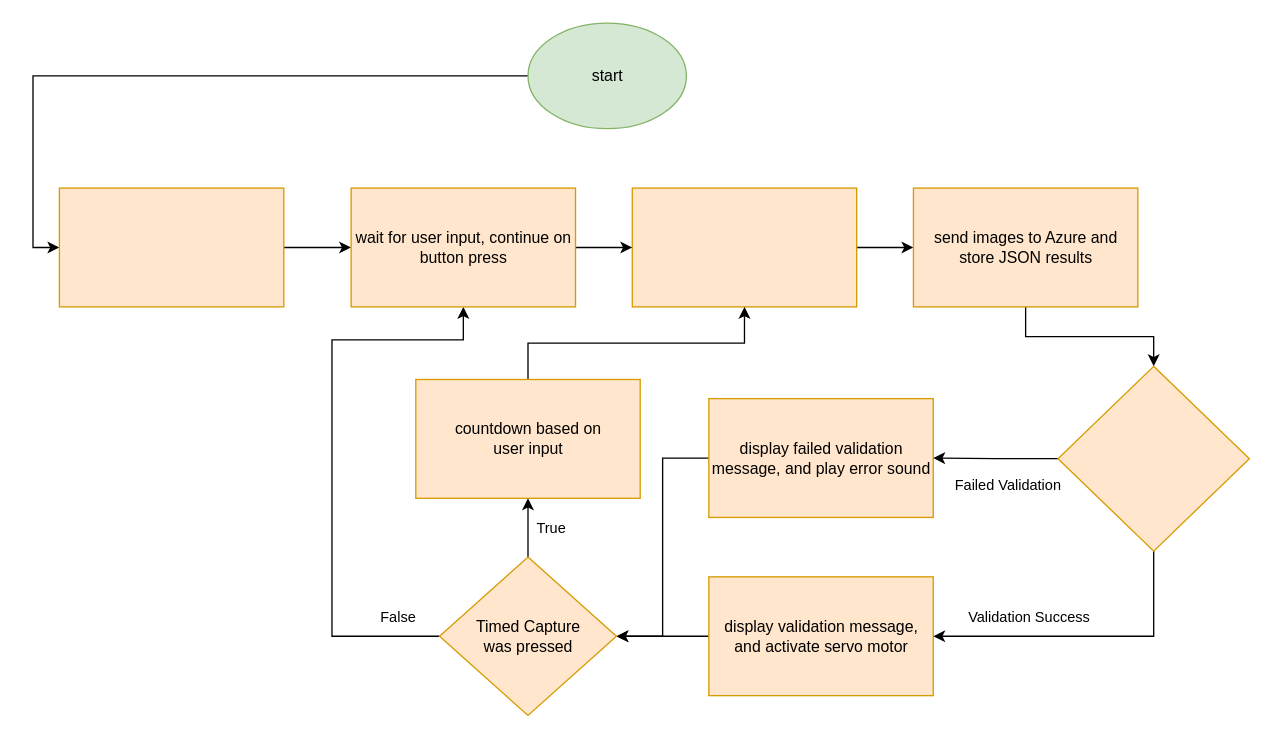
The diagram is 1272 pixels wide and 739 high, and some of its shapes have lost their labels. The shapes that lost their labels are listed below. From the top down, each one's centre as x and y in pixels, then its label:
At point 171,247: "initialize GUI launch said GUI".
At point 744,247: "capture image and store results for local referencing".
At point 1153,458: "display images on GUI and validate results".
